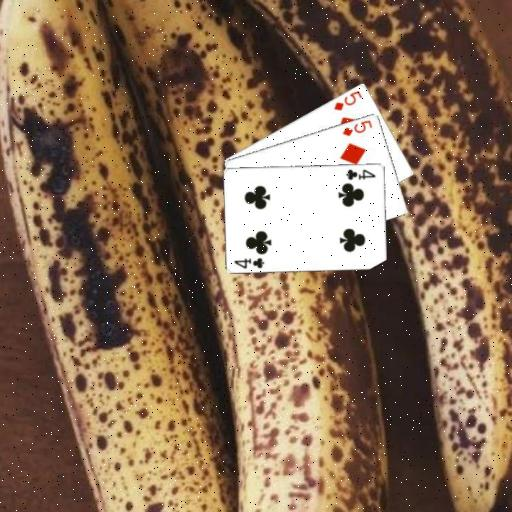4C: (231, 254, 266, 270), (343, 166, 377, 182)
5D: (331, 88, 363, 112), (339, 117, 374, 137)
